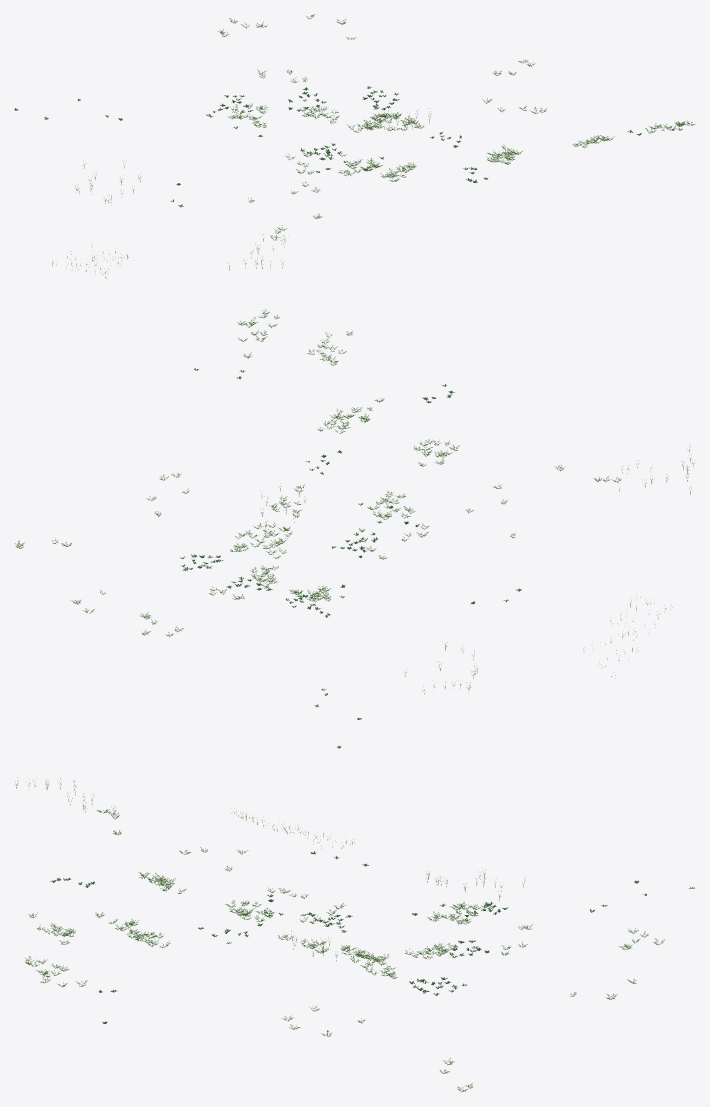
File: GroundCover_17_21.glb
3 renders of one model, top to bottom at view 1: azimuth 30°, elevation 25°; view 2: azimuth 150°, elevation 25°; view 3: azimuth 270°, elevation 25°, orthographic. The views are drawn at different scales.
Visible parts, largest first — view 1: GroundCover_17_21; view 2: GroundCover_17_21; view 3: GroundCover_17_21.
Part boxes in pixels (x1,y1,x2,y2): GroundCover_17_21: [14, 14, 695, 278]; GroundCover_17_21: [15, 309, 693, 748]; GroundCover_17_21: [15, 777, 694, 1092].
Bounding box in the file's own units: 62.51 × 15.05 × 62.18.
Materials: 1 (1 with a texture image).
